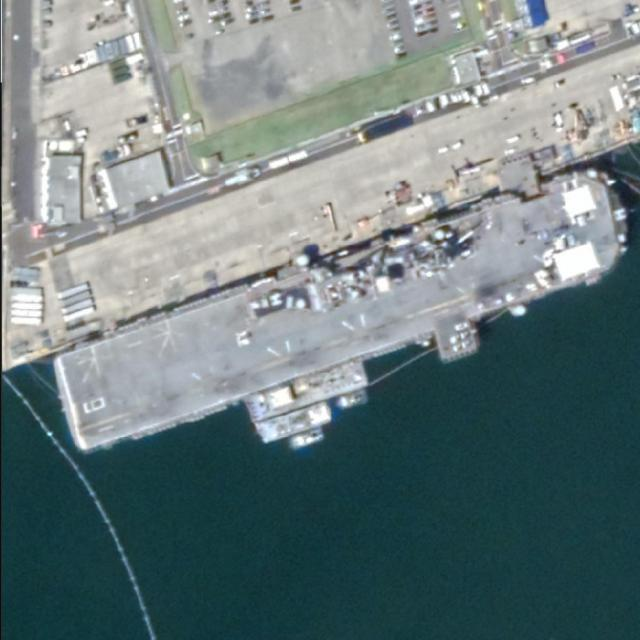Landing: (41, 167, 638, 454)
